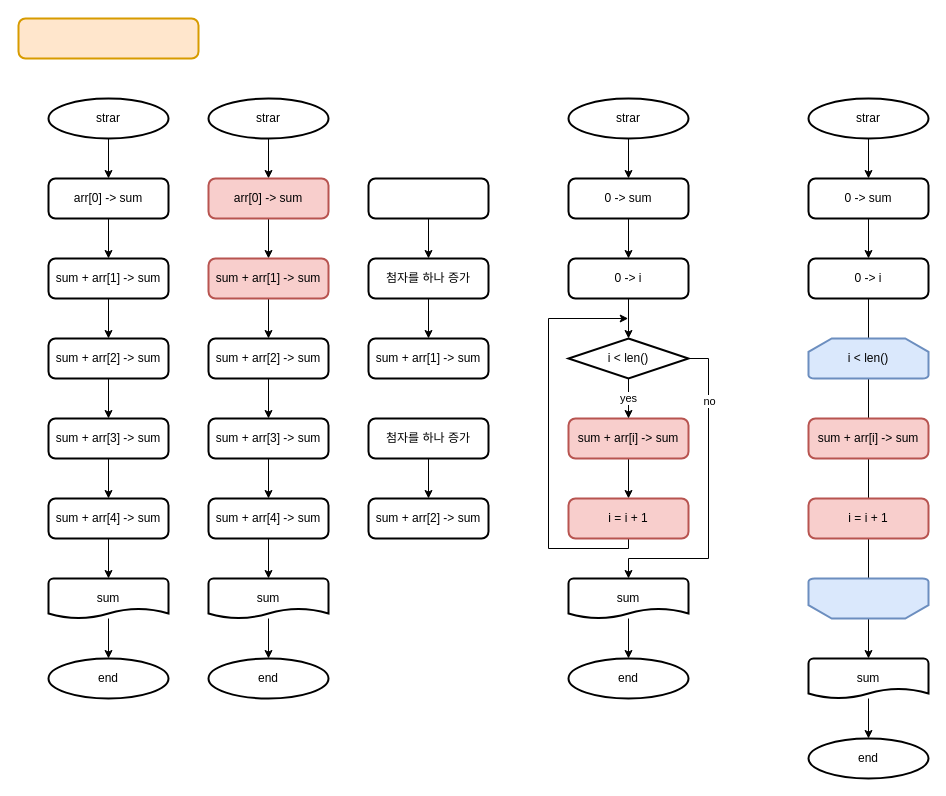
Some shapes in this 946 by 796 pixel diagram are drawn without their labels. Here are the shapes that lost their labels. From the top down, the centre of each, then its label:
point (108, 38): 합계값을 계산하는 알고리즘
point (428, 198): sum + arr[0] -> sum
